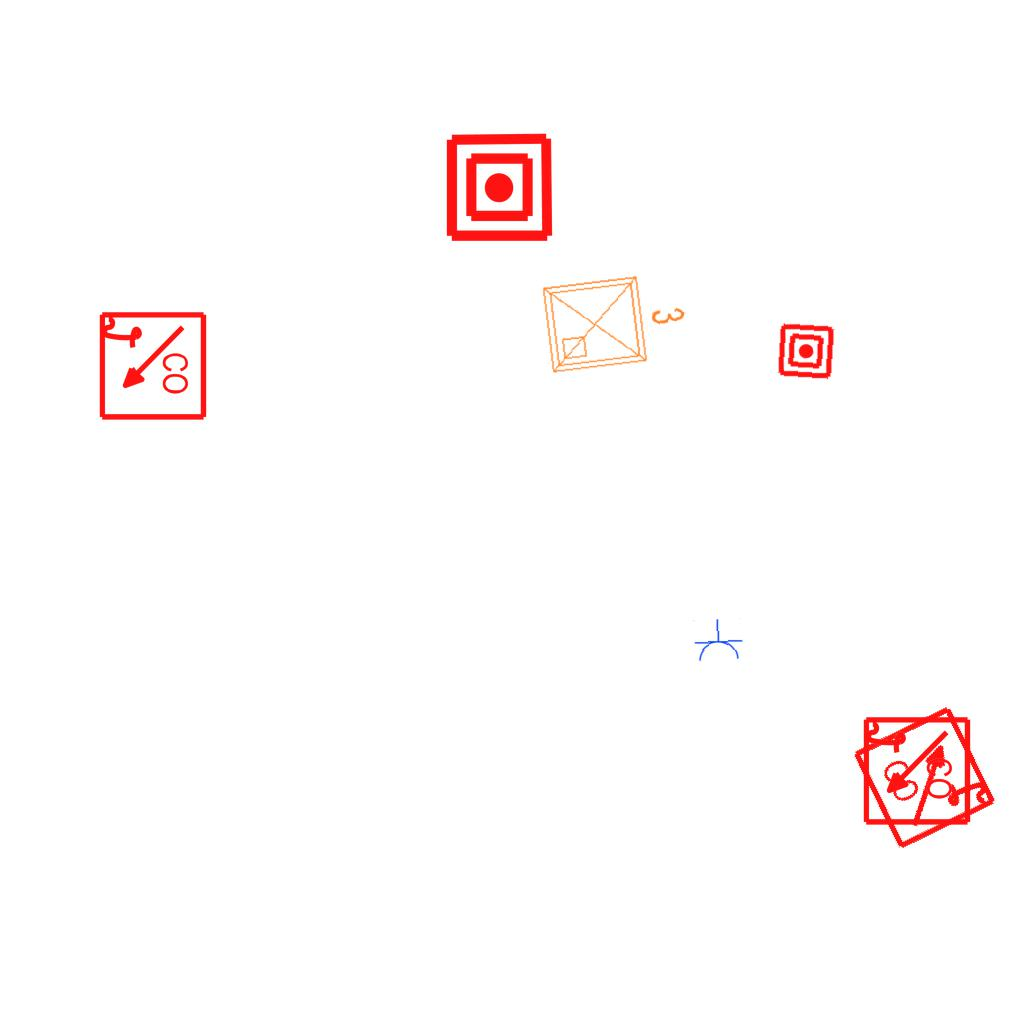Einbaudownlights_LED_Konferenzraeume: (534, 259, 696, 381)
NAM-Nichtautomatischer_Melder: (443, 131, 556, 244), (776, 321, 836, 381)
ROA_Rauchmelder_optisch_mit_Signalgeber_(Sockelsirene): (849, 700, 1002, 853), (95, 310, 208, 423), (859, 715, 972, 828)
Schukosteckdose_einfach: (691, 617, 745, 664)
